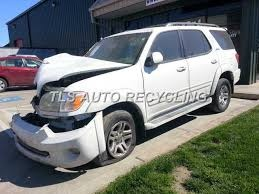Smashed: (9, 53, 65, 154)
